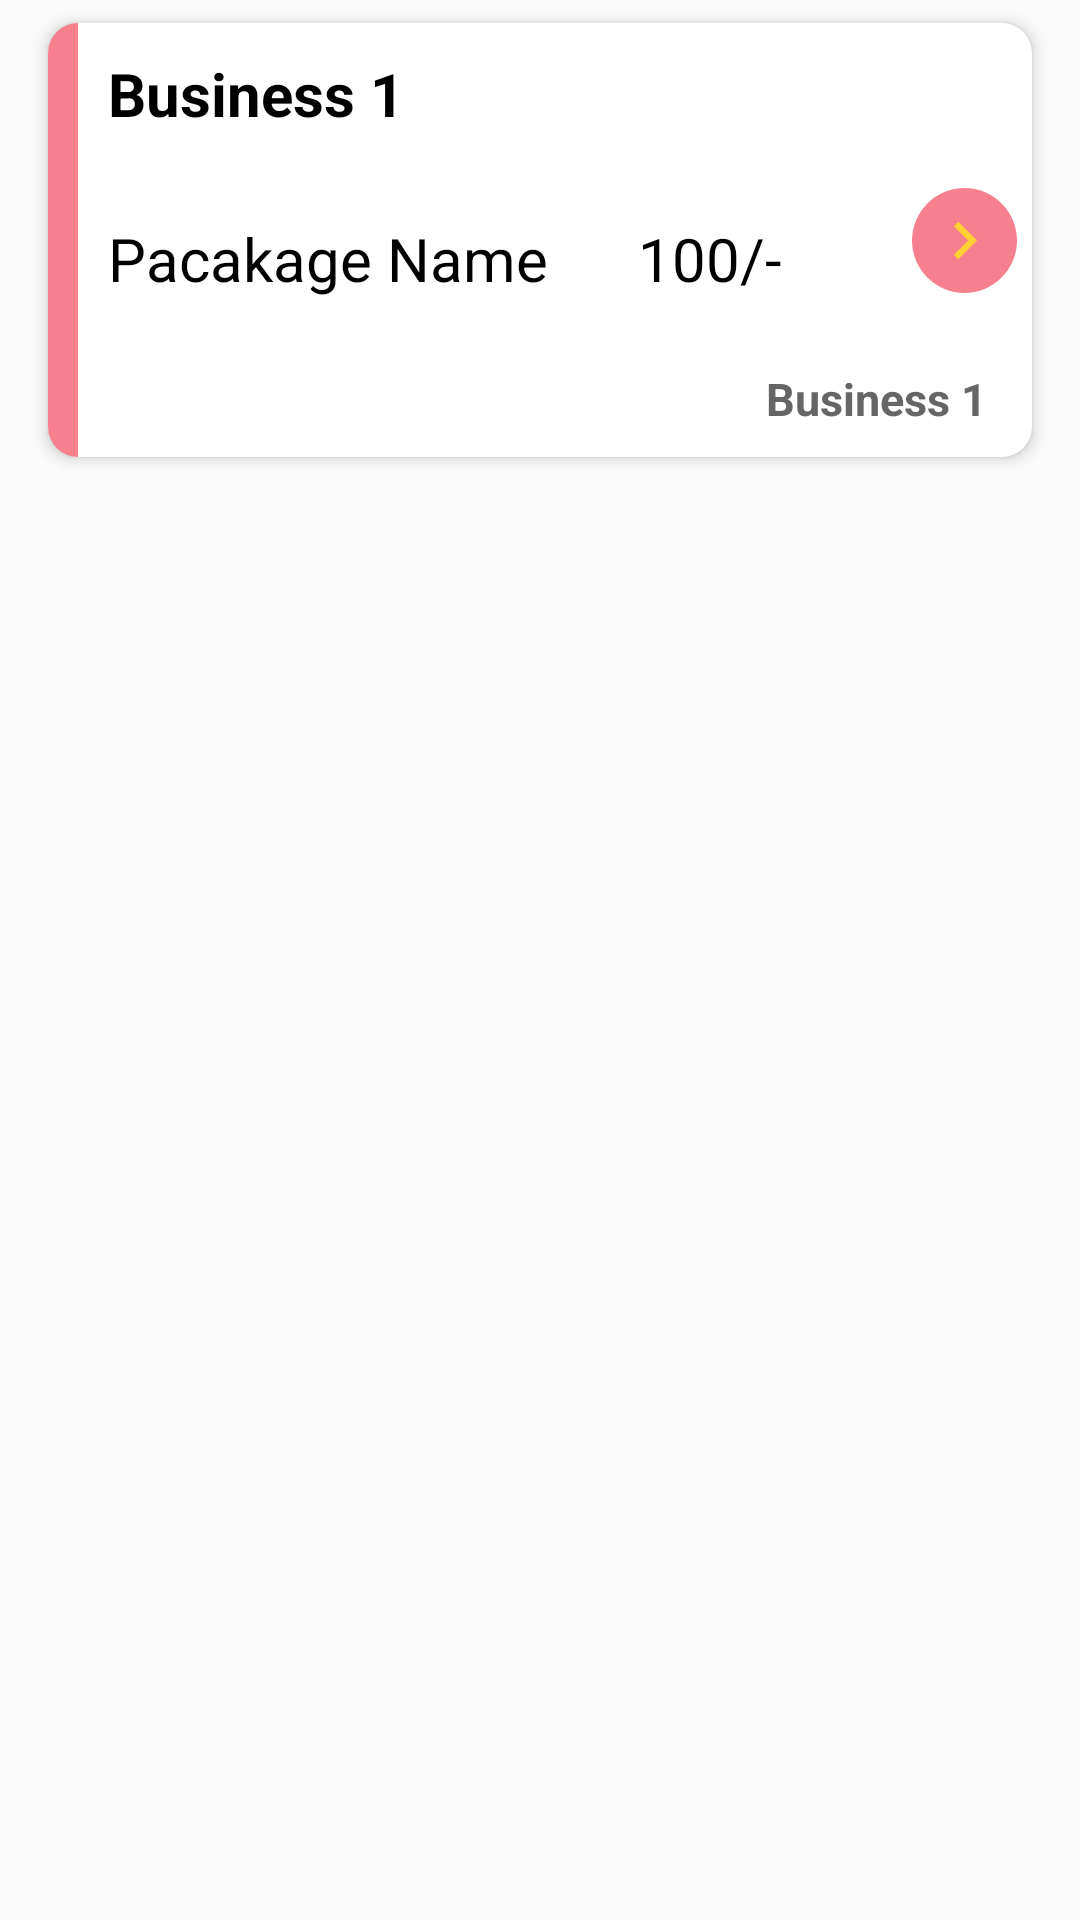

Point at icon controls on the screen. Image size 1080w x 1920h, points as point (x, y).
chevron right: point (964, 240)
